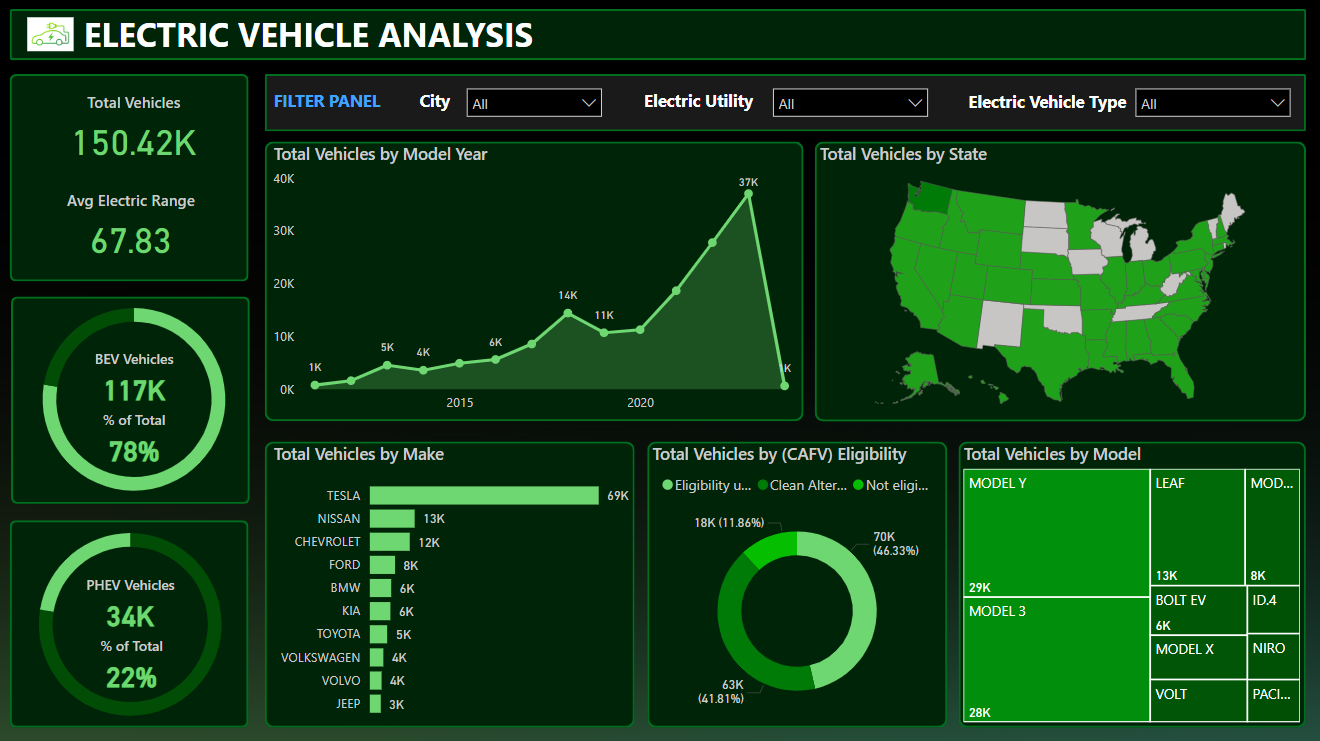

This screenshot's page, from the dashboard's own definition file:
{"tool":"powerbi","page":{"name":"Page 1","canvas":[1280,720],"ordinal":0},"visuals":[{"type":"shape","box":[13.7,9.6,1251.5,49.4],"z":0},{"type":"textbox","box":[79.6,7.2,476.5,53.1],"z":1000},{"type":"shape","box":[13.7,72.7,230.5,200.3],"z":2000},{"type":"card","title":"Total Vehicles","fields":{"Values":["Electric_Vehicle_Population_Data.Total Vehicles"]},"box":[35.7,89.2,193.5,74.1],"z":3000},{"type":"card","title":"Avg Electric Range","fields":{"Values":["Avg(Electric_Vehicle_Population_Data.Electric Range)"]},"box":[35.7,183.9,188,74.1],"z":4000},{"type":"shape","box":[14.5,287.1,230.4,200.3],"z":5000},{"type":"shape","box":[13.3,503.1,230.4,200.3],"z":6000},{"type":"donutChart","fields":{"Category":["Electric_Vehicle_Population_Data.Electric Vehicle Type"],"Y":["Electric_Vehicle_Population_Data.Total Vehicles"]},"box":[3.6,271.4,259.4,230.4],"z":7000},{"type":"card","title":"BEV Vehicles","fields":{"Values":["Electric_Vehicle_Population_Data.BEV Vehicles"]},"box":[60.3,337.8,146,59.1],"z":8000},{"type":"card","title":"% of Total","fields":{"Values":["Electric_Vehicle_Population_Data.% of BEV"]},"box":[60.3,396.9,146,59.1],"z":9000},{"type":"donutChart","fields":{"Category":["Electric_Vehicle_Population_Data.Electric Vehicle Type"],"Y":["Electric_Vehicle_Population_Data.Total Vehicles"]},"box":[0,488.6,259.4,230.4],"z":10000},{"type":"card","title":"PHEV Vehicles","fields":{"Values":["Electric_Vehicle_Population_Data.PHEV Vehicles"]},"box":[56.7,556.2,146,59.1],"z":11000},{"type":"card","title":"% of Total","fields":{"Values":["Electric_Vehicle_Population_Data.% of PHEV"]},"box":[57.9,615.3,146,59.1],"z":12000},{"type":"shape","box":[259.4,72.4,1005,55.5],"z":13000},{"type":"shape","box":[259.4,137.5,520,270],"z":14000},{"type":"areaChart","fields":{"Category":["Electric_Vehicle_Population_Data.Model Year"],"Y":["Electric_Vehicle_Population_Data.Total Vehicles"]},"box":[263,137.5,516.4,270.2],"z":15000},{"type":"shape","box":[790.2,137.5,474.1,270.2],"z":16000},{"type":"shapeMap","fields":{"Category":["Electric_Vehicle_Population_Data.State"],"Value":["Electric_Vehicle_Population_Data.Total Vehicles"]},"box":[790.2,137.5,474.1,270.2],"z":17000},{"type":"shape","box":[259.4,427.1,357.1,276.3],"z":18000},{"type":"barChart","fields":{"Category":["Electric_Vehicle_Population_Data.Make"],"Y":["Electric_Vehicle_Population_Data.Total Vehicles"]},"box":[263,427.1,353.5,276.3],"z":19000},{"type":"shape","box":[628.6,427.1,289.5,276.3],"z":20000},{"type":"donutChart","title":"Total Vehicles by (CAFV) Eligibility","fields":{"Category":["Electric_Vehicle_Population_Data.Clean Alternative Fuel Vehicle (CAFV) Eligibility"],"Y":["Electric_Vehicle_Population_Data.Total Vehicles"]},"box":[628.6,427.1,289.5,276.3],"z":21000},{"type":"shape","box":[929,427.1,335.4,276.3],"z":22000},{"type":"treemap","fields":{"Group":["Electric_Vehicle_Population_Data.Model"],"Values":["Electric_Vehicle_Population_Data.Total Vehicles"]},"box":[929,426.8,334.8,275.8],"z":23000},{"type":"textbox","box":[263,82,127.9,33.8],"z":24000},{"type":"slicer","fields":{"Values":["Electric_Vehicle_Population_Data.City"]},"box":[444,76,150.8,43.4],"z":25000},{"type":"textbox","box":[390.9,82,65.1,33.8],"z":26000},{"type":"slicer","fields":{"Values":["Electric_Vehicle_Population_Data.City"]},"box":[739.5,76,170.1,43.4],"z":27000},{"type":"textbox","box":[616.5,82,123.1,33.8],"z":28000},{"type":"slicer","fields":{"Values":["Electric_Vehicle_Population_Data.Electric Vehicle Type"]},"box":[1089.4,76,170.1,43.4],"z":29000},{"type":"textbox","box":[929,83.2,171.3,33.8],"z":30000},{"type":"image","box":[25.3,4.8,54.3,59.1],"z":31000}]}

Visuals, with their boxes in screenshot pixels (x1, y1, x2, y2), scaled from the page's 1280x720 canvas onto the 1320x741 screenshot:
shape: left=14, top=10, right=1305, bottom=61
textbox: left=82, top=7, right=573, bottom=62
shape: left=14, top=75, right=252, bottom=281
"Total Vehicles" card: left=37, top=92, right=236, bottom=168
"Avg Electric Range" card: left=37, top=189, right=231, bottom=266
shape: left=15, top=295, right=253, bottom=502
shape: left=14, top=518, right=251, bottom=724
donutChart - Electric_Vehicle_Population_Data.Electric Vehicle Type x Electric_Vehicle_Population_Data.Total Vehicles: left=4, top=279, right=271, bottom=516
"BEV Vehicles" card: left=62, top=348, right=213, bottom=408
"% of Total" card: left=62, top=408, right=213, bottom=469
donutChart - Electric_Vehicle_Population_Data.Electric Vehicle Type x Electric_Vehicle_Population_Data.Total Vehicles: left=0, top=503, right=268, bottom=740
"PHEV Vehicles" card: left=58, top=572, right=209, bottom=633
"% of Total" card: left=60, top=633, right=210, bottom=694
shape: left=268, top=75, right=1304, bottom=132
shape: left=268, top=142, right=804, bottom=419
areaChart - Electric_Vehicle_Population_Data.Model Year x Electric_Vehicle_Population_Data.Total Vehicles: left=271, top=142, right=804, bottom=420
shape: left=815, top=142, right=1304, bottom=420
shapeMap - Electric_Vehicle_Population_Data.State x Electric_Vehicle_Population_Data.Total Vehicles: left=815, top=142, right=1304, bottom=420
shape: left=268, top=440, right=636, bottom=724
barChart - Electric_Vehicle_Population_Data.Make x Electric_Vehicle_Population_Data.Total Vehicles: left=271, top=440, right=636, bottom=724
shape: left=648, top=440, right=947, bottom=724
"Total Vehicles by (CAFV) Eligibility" donutChart: left=648, top=440, right=947, bottom=724
shape: left=958, top=440, right=1304, bottom=724
treemap - Electric_Vehicle_Population_Data.Model x Electric_Vehicle_Population_Data.Total Vehicles: left=958, top=439, right=1303, bottom=723
textbox: left=271, top=84, right=403, bottom=119
slicer - Electric_Vehicle_Population_Data.City: left=458, top=78, right=613, bottom=123
textbox: left=403, top=84, right=470, bottom=119
slicer - Electric_Vehicle_Population_Data.City: left=763, top=78, right=938, bottom=123
textbox: left=636, top=84, right=763, bottom=119
slicer - Electric_Vehicle_Population_Data.Electric Vehicle Type: left=1123, top=78, right=1299, bottom=123
textbox: left=958, top=86, right=1135, bottom=120
image: left=26, top=5, right=82, bottom=66
